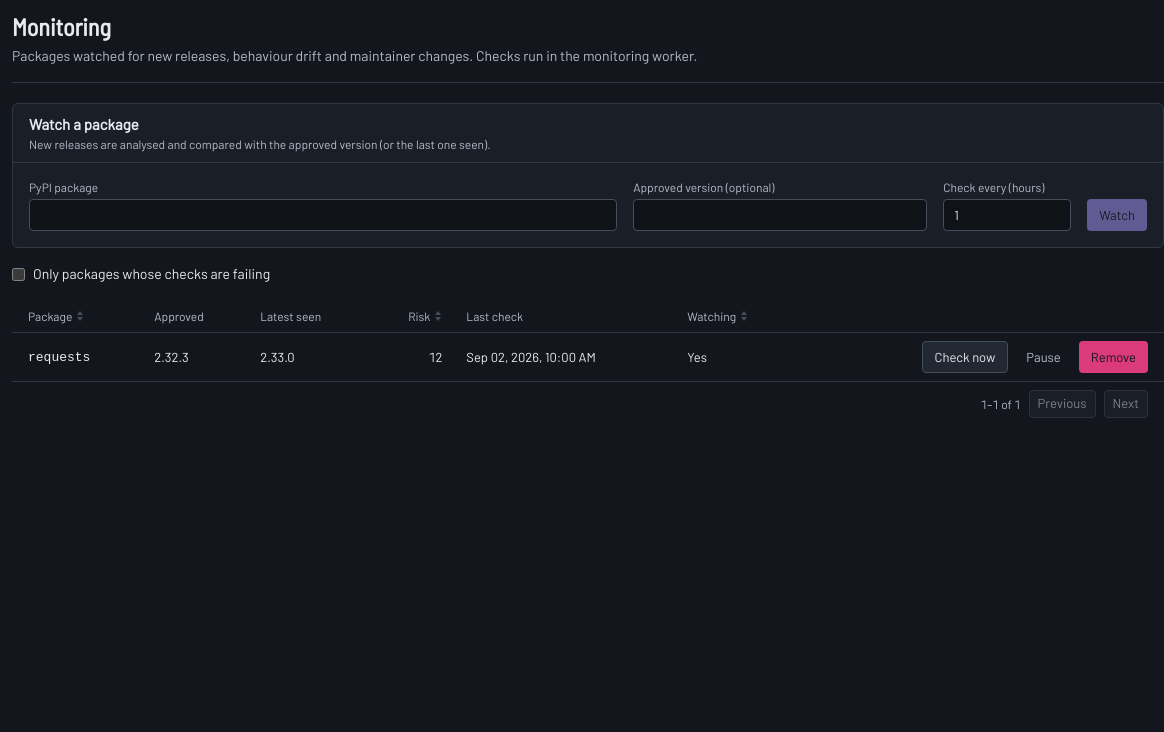
Scenario: Monitoring › reports a failed action
The width and height of the screenshot is (1164, 732).
Step 1. Click the button "Check now" → (965, 357), box [922,341,1008,373]
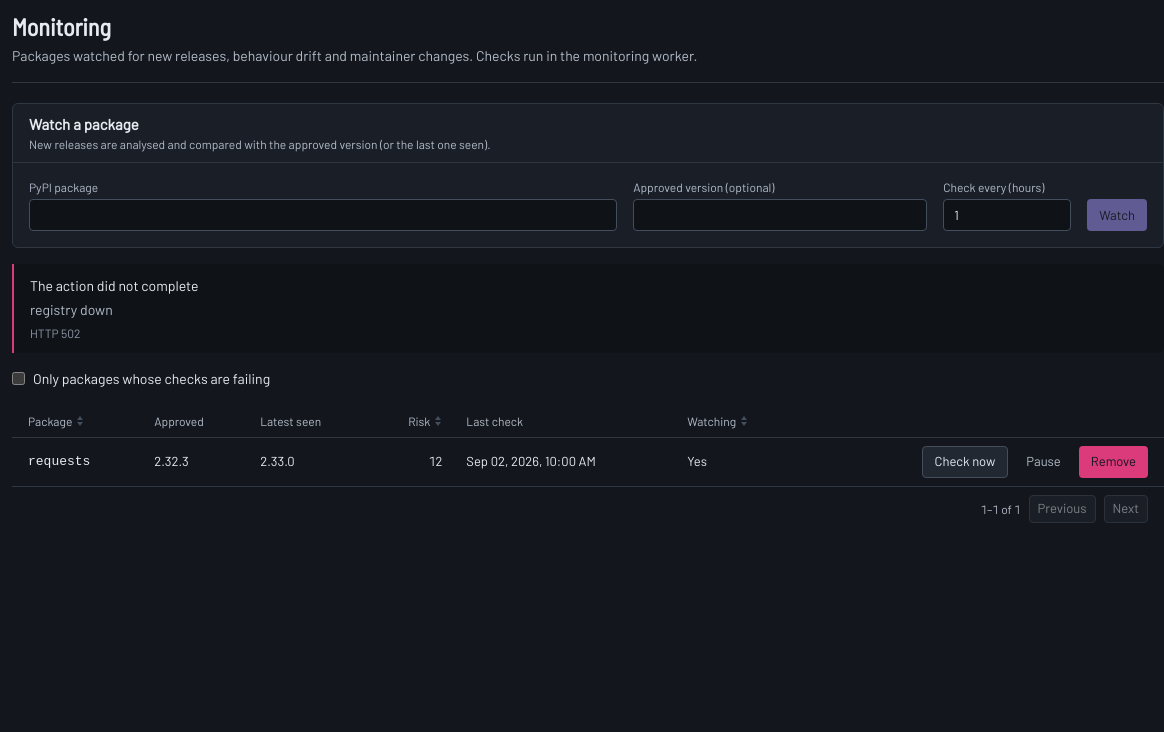
expect the text "The action did not complete" is shown: met, box [30,276,198,296]
